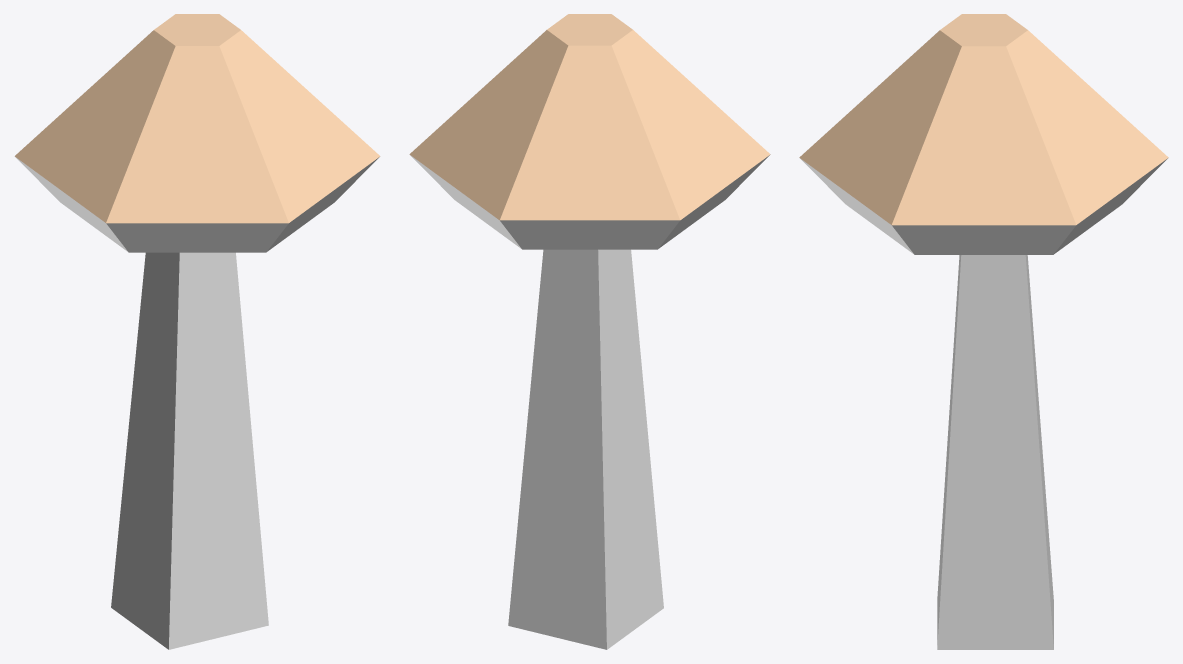
File: mushroom_brownTall.glb
3 views of the same model, side by side, from view 1: azimuth 30°, elevation 25°; view 2: azimuth 150°, elevation 25°; view 3: azimuth 270°, elevation 25° (orthographic). The views are drawn at different scales.
Visible parts, largest first — view 1: mushroom_brownTall; view 2: mushroom_brownTall; view 3: mushroom_brownTall.
Boxes of the visible parts, bbox=[...] form: mushroom_brownTall: bbox=[14, 14, 380, 649]; mushroom_brownTall: bbox=[409, 14, 770, 649]; mushroom_brownTall: bbox=[799, 14, 1168, 649].
Bounding box in the file's own units: 0.0988 × 0.2031 × 0.1141.
